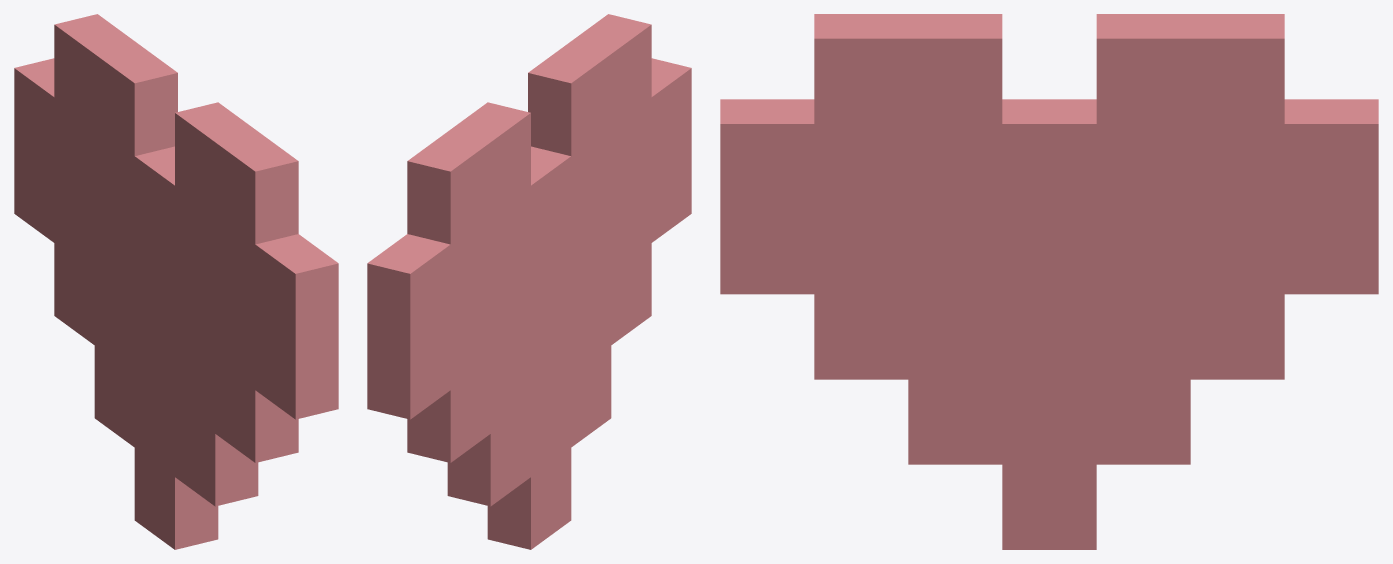
File: BlissHeartSign.fbx
3 views of the same model, side by side, from view 1: azimuth 30°, elevation 25°; view 2: azimuth 150°, elevation 25°; view 3: azimuth 270°, elevation 25° (orthographic). The views are drawn at different scales.
Visible parts, largest first — view 1: BlissBuildingHeart; view 2: BlissBuildingHeart; view 3: BlissBuildingHeart.
Boxes of the visible parts, x1,y1,x2,y2 form: BlissBuildingHeart: (14,14,338,549); BlissBuildingHeart: (367,14,691,549); BlissBuildingHeart: (720,14,1378,549).
Bounding box in the file's own units: 56 × 4.96 × 48.
